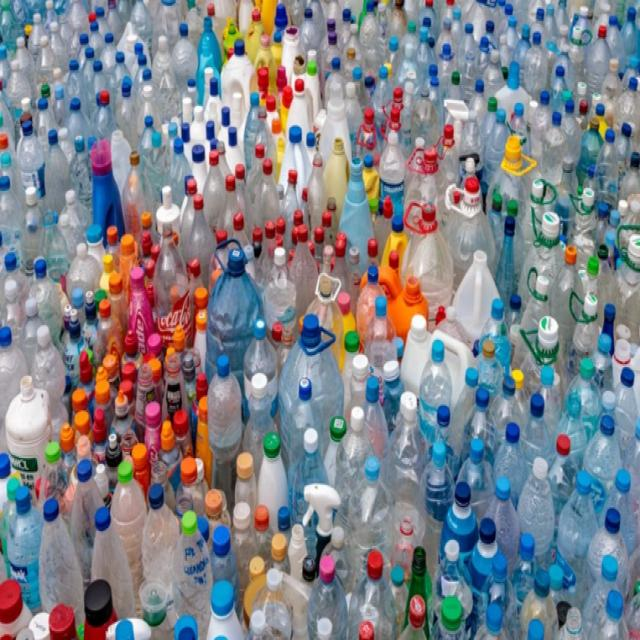plastic_bottle: (8, 16, 631, 615), (418, 117, 582, 609), (146, 200, 194, 372)
